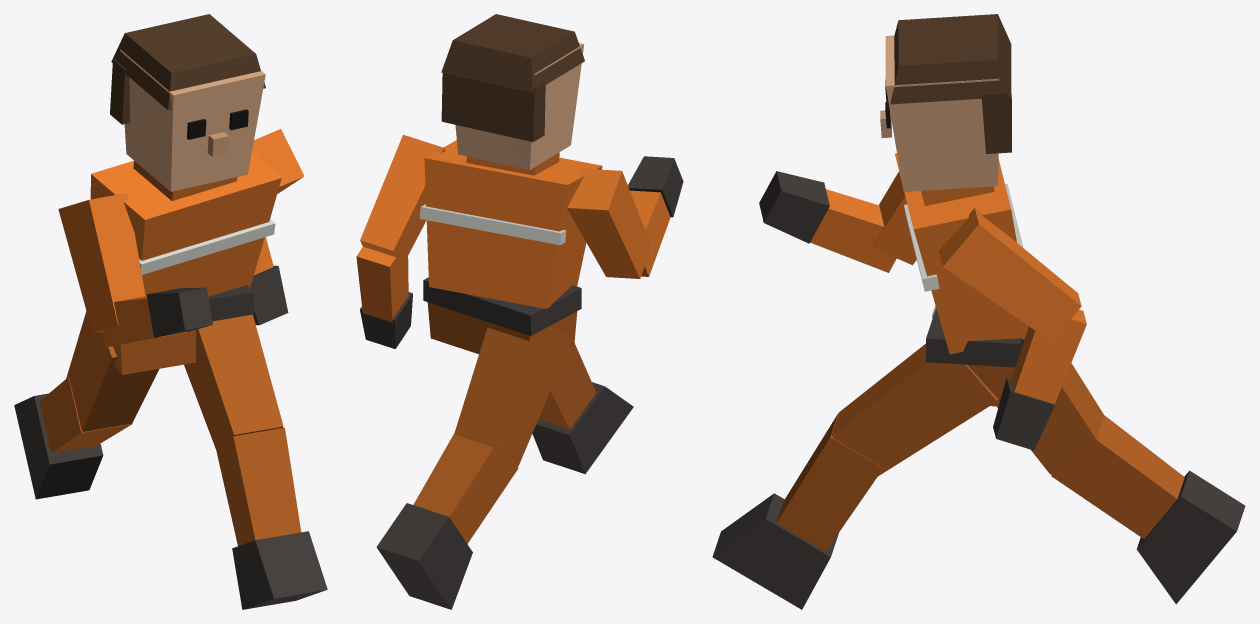
Rendered from character_pose_4.obj.
3 renders of one model, left to right at view 1: azimuth 30°, elevation 25°; view 2: azimuth 150°, elevation 25°; view 3: azimuth 270°, elevation 25°, orthographic. The views are drawn at different scales.
Size of the model in its own units: 0.6156 by 1.31 by 1.12.
